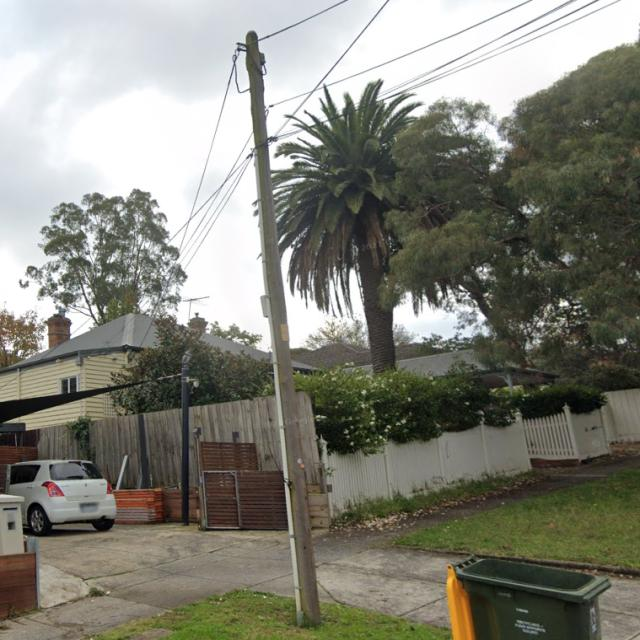timber-pole: (244, 28, 321, 629)
top mount suitable pole: (244, 29, 322, 630)
